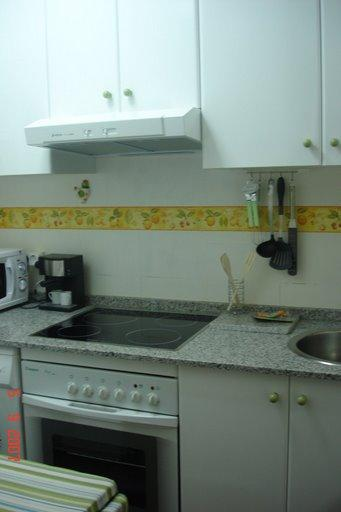Electrodomestico: (20, 302, 185, 498)
